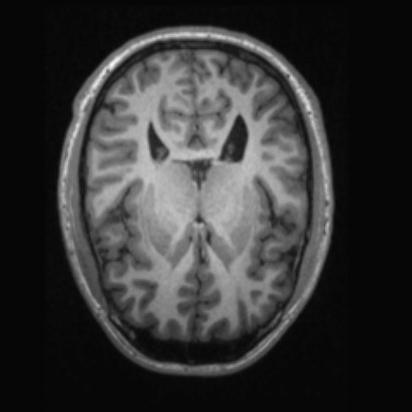Normal_Brain: (1, 1, 412, 412)
